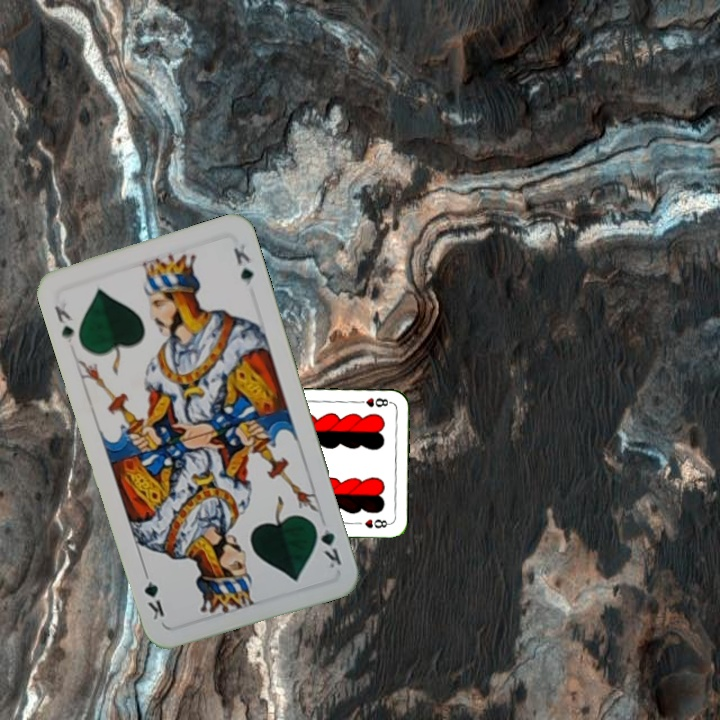GK: (309, 517, 344, 571), (50, 302, 77, 346)
H8: (353, 394, 393, 409)
